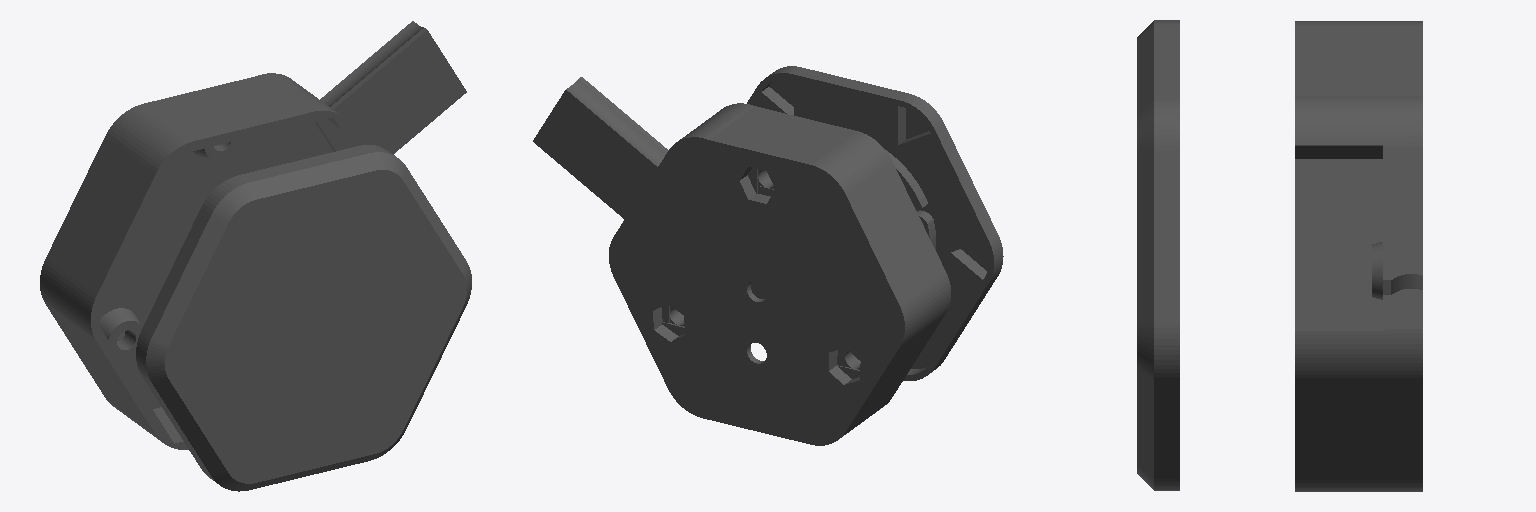
URDF robot description (Node):
<?xml version="1.0" ?>
<!-- Generated using onshape-to-robot -->
<!-- Onshape https://cad.onshape.com/documents/ae3c4bc9d8cc7b8f7518de1a/w/d6007c6de47a2ddbff2b177c/e/7754fbd9a9f55dd87bb40ca7 -->
<robot name="Node">
  <!-- Link middle_plate -->
  <link name="middle_plate">
    <inertial>
      <origin xyz="0.00507018 -0.00985581 0.00250934" rpy="0 0 0"/>
      <mass value="0.0352214"/>
      <inertia ixx="1.26922e-05" ixy="-1.29788e-06" ixz="-2.17147e-06" iyy="1.87074e-05" iyz="-7.41504e-07" izz="1.52245e-05"/>
    </inertial>
    <!-- Part bottom_plate_cover -->
    <visual>
      <origin xyz="0.000915717 0.00388193 7.21891e-05" rpy="0 -0 0"/>
      <geometry>
        <mesh filename="package://assets/bottom_plate_cover.stl"/>
      </geometry>
      <material name="bottom_plate_cover_material">
        <color rgba="0.4 0.4 0.4 1"/>
      </material>
    </visual>
    <collision>
      <origin xyz="0.000915717 0.00388193 7.21891e-05" rpy="0 -0 0"/>
      <geometry>
        <mesh filename="package://assets/bottom_plate_cover.stl"/>
      </geometry>
    </collision>
    <!-- Part top_plate -->
    <visual>
      <origin xyz="0.000741191 -0.0317181 8.31502e-05" rpy="3.14159 1.0472 3.14159"/>
      <geometry>
        <mesh filename="package://assets/top_plate.stl"/>
      </geometry>
      <material name="top_plate_material">
        <color rgba="0.4 0.4 0.4 1"/>
      </material>
    </visual>
    <collision>
      <origin xyz="0.000741191 -0.0317181 8.31502e-05" rpy="3.14159 1.0472 3.14159"/>
      <geometry>
        <mesh filename="package://assets/top_plate.stl"/>
      </geometry>
    </collision>
    <!-- Part middle_plate -->
    <visual>
      <origin xyz="0.000927597 -0.00811807 8.31502e-05" rpy="3.14159 1.0472 3.14159"/>
      <geometry>
        <mesh filename="package://assets/middle_plate.stl"/>
      </geometry>
      <material name="middle_plate_material">
        <color rgba="0.4 0.4 0.4 1"/>
      </material>
    </visual>
    <collision>
      <origin xyz="0.000927597 -0.00811807 8.31502e-05" rpy="3.14159 1.0472 3.14159"/>
      <geometry>
        <mesh filename="package://assets/middle_plate.stl"/>
      </geometry>
    </collision>
    <!-- Part bottom_plate -->
    <visual>
      <origin xyz="0.000921963 0.00388193 6.1503e-05" rpy="0 -0 0"/>
      <geometry>
        <mesh filename="package://assets/bottom_plate.stl"/>
      </geometry>
      <material name="bottom_plate_material">
        <color rgba="0.4 0.4 0.4 1"/>
      </material>
    </visual>
    <collision>
      <origin xyz="0.000921963 0.00388193 6.1503e-05" rpy="0 -0 0"/>
      <geometry>
        <mesh filename="package://assets/bottom_plate.stl"/>
      </geometry>
    </collision>
  </link>
  <!-- Frame node-1 (dummy link + fixed joint) -->
  <link name="node-1">
    <origin xyz="0 0 0" rpy="0 -0 0"/>
    <inertial>
      <origin xyz="0 0 0" rpy="0 0 0"/>
      <mass value="1e-9"/>
      <inertia ixx="0" ixy="0" ixz="0" iyy="0" iyz="0" izz="0"/>
    </inertial>
  </link>
  <joint name="node-1_frame" type="fixed">
    <origin xyz="0.0225782 -0.0141181 0.0125832" rpy="0 1.0472 0"/>
    <parent link="middle_plate"/>
    <child link="node-1"/>
    <axis xyz="0 0 0"/>
  </joint>
  <!-- Frame node-2 (dummy link + fixed joint) -->
  <link name="node-2">
    <origin xyz="0 0 0" rpy="0 -0 0"/>
    <inertial>
      <origin xyz="0 0 0" rpy="0 0 0"/>
      <mass value="1e-9"/>
      <inertia ixx="0" ixy="0" ixz="0" iyy="0" iyz="0" izz="0"/>
    </inertial>
  </link>
  <joint name="node-2_frame" type="fixed">
    <origin xyz="0.0225782 -0.0141181 -0.0124168" rpy="3.14159 1.0472 3.14159"/>
    <parent link="middle_plate"/>
    <child link="node-2"/>
    <axis xyz="0 0 0"/>
  </joint>
  <!-- Frame node-3 (dummy link + fixed joint) -->
  <link name="node-3">
    <origin xyz="0 0 0" rpy="0 -0 0"/>
    <inertial>
      <origin xyz="0 0 0" rpy="0 0 0"/>
      <mass value="1e-9"/>
      <inertia ixx="0" ixy="0" ixz="0" iyy="0" iyz="0" izz="0"/>
    </inertial>
  </link>
  <joint name="node-3_frame" type="fixed">
    <origin xyz="0.000927597 -0.0141181 -0.0249168" rpy="3.14159 0 3.14159"/>
    <parent link="middle_plate"/>
    <child link="node-3"/>
    <axis xyz="0 0 0"/>
  </joint>
  <!-- Frame node-4 (dummy link + fixed joint) -->
  <link name="node-4">
    <origin xyz="0 0 0" rpy="0 -0 0"/>
    <inertial>
      <origin xyz="0 0 0" rpy="0 0 0"/>
      <mass value="1e-9"/>
      <inertia ixx="0" ixy="0" ixz="0" iyy="0" iyz="0" izz="0"/>
    </inertial>
  </link>
  <joint name="node-4_frame" type="fixed">
    <origin xyz="-0.020723 -0.0141181 -0.0124168" rpy="3.14159 1.0472 0"/>
    <parent link="middle_plate"/>
    <child link="node-4"/>
    <axis xyz="0 0 0"/>
  </joint>
  <!-- Frame node-5 (dummy link + fixed joint) -->
  <link name="node-5">
    <origin xyz="0 0 0" rpy="0 -0 0"/>
    <inertial>
      <origin xyz="0 0 0" rpy="0 0 0"/>
      <mass value="1e-9"/>
      <inertia ixx="0" ixy="0" ixz="0" iyy="0" iyz="0" izz="0"/>
    </inertial>
  </link>
  <joint name="node-5_frame" type="fixed">
    <origin xyz="-0.020723 -0.0141181 0.0125832" rpy="0 1.0472 3.14159"/>
    <parent link="middle_plate"/>
    <child link="node-5"/>
    <axis xyz="0 0 0"/>
  </joint>
  <!-- Frame node-6 (dummy link + fixed joint) -->
  <link name="node-6">
    <origin xyz="0 0 0" rpy="0 -0 0"/>
    <inertial>
      <origin xyz="0 0 0" rpy="0 0 0"/>
      <mass value="1e-9"/>
      <inertia ixx="0" ixy="0" ixz="0" iyy="0" iyz="0" izz="0"/>
    </inertial>
  </link>
  <joint name="node-6_frame" type="fixed">
    <origin xyz="0.000927597 -0.0141181 0.0250832" rpy="0 0 3.14159"/>
    <parent link="middle_plate"/>
    <child link="node-6"/>
    <axis xyz="0 0 0"/>
  </joint>
</robot>

--- Facts derived from the render (not from the file) ---
The picture shows the robot from 3 angles, left to right: view 1: azimuth 30°, elevation 25°; view 2: azimuth 150°, elevation 25°; view 3: azimuth 270°, elevation 25°; orthographic projection.
Model Node with 7 links and 6 joints (6 fixed), rooted at middle_plate, posed all joints at 0.
Links seen in each view (by area): view 1: middle_plate; view 2: middle_plate; view 3: middle_plate.
Link boxes in pixels (left/top/right/bottom): middle_plate: left=40, top=21, right=471, bottom=491; middle_plate: left=533, top=66, right=1003, bottom=445; middle_plate: left=1137, top=20, right=1422, bottom=491.
Bounding box of the posed robot: 0.0701 × 0.0336 × 0.0533 m (x, y, z).
Meshes: 4 distinct files referenced, 2 mesh visuals loaded (2 binary STL); not drawn: 2 (reference not matched to a file when rendering).
